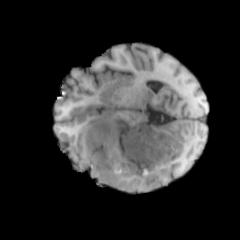glioma: (80, 116, 195, 191)
